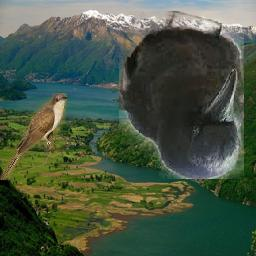Crow: (120, 11, 245, 179)
Cuckoo: (1, 94, 68, 181)
